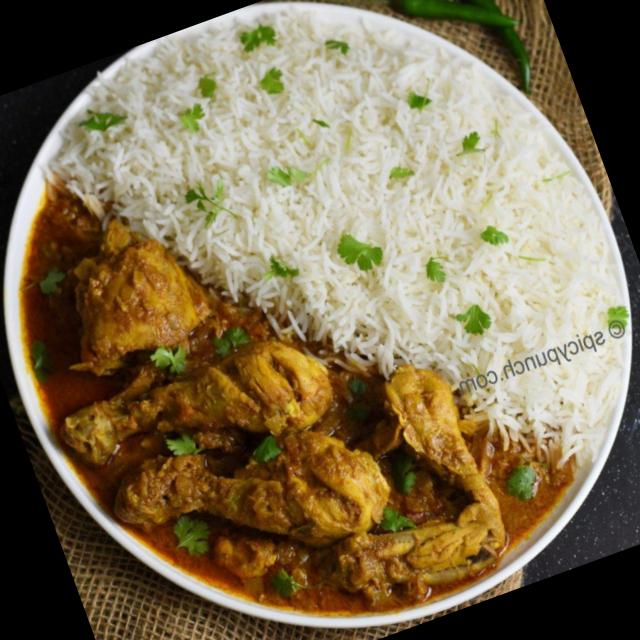chicken: (28, 176, 580, 609)
rice: (56, 46, 610, 436)
